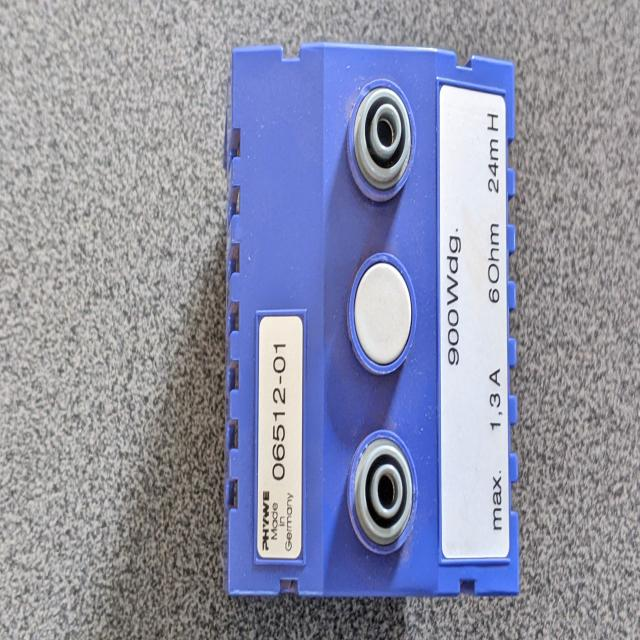Solenoid: (214, 34, 534, 618)
